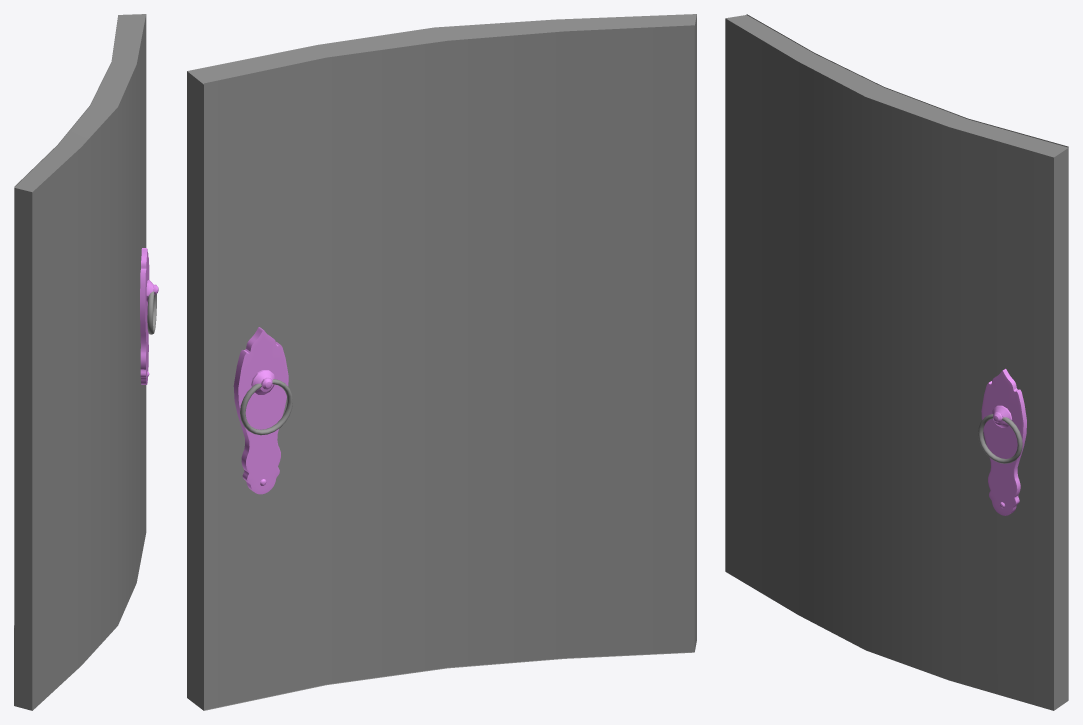
Rendered from SM_RoundDoor_A_002.FBX.
The picture shows the model from 3 angles, left to right: view 1: azimuth 30°, elevation 25°; view 2: azimuth 150°, elevation 25°; view 3: azimuth 270°, elevation 25°; orthographic projection. The views are drawn at different scales.
Parts seen in each view (by area): view 1: SM_RoundDoor_A_002; view 2: SM_RoundDoor_A_002; view 3: SM_RoundDoor_A_002.
Part boxes in pixels (x1,y1,x2,y2): SM_RoundDoor_A_002: (14, 14, 158, 710); SM_RoundDoor_A_002: (187, 14, 696, 710); SM_RoundDoor_A_002: (725, 14, 1068, 710).
Size of the model in its own units: 130 by 234 by 132.
